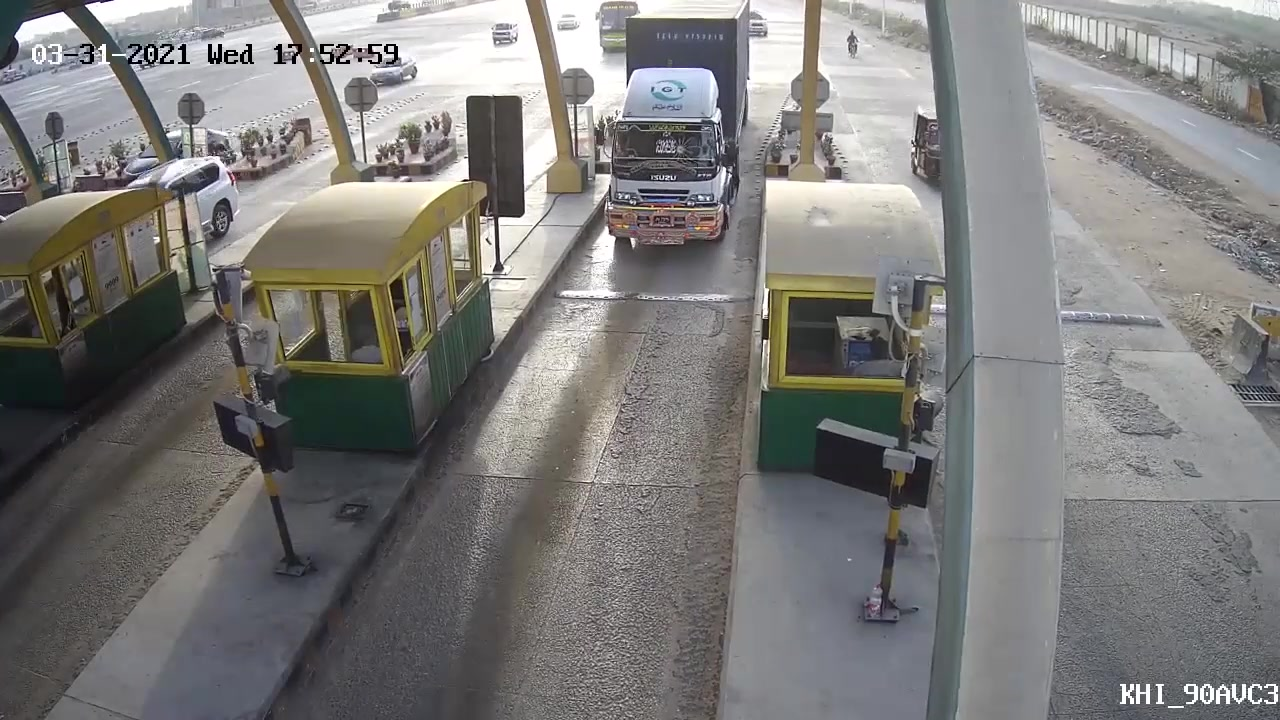F6: (590, 5, 748, 264)
